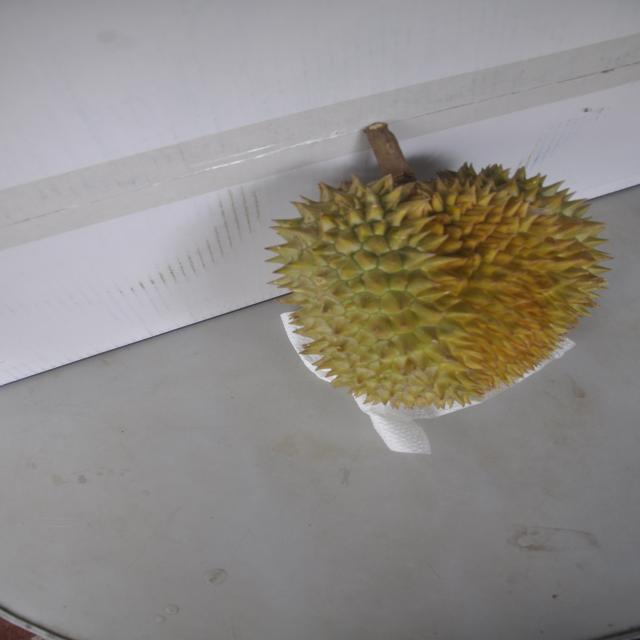mature: (260, 153, 611, 417)
